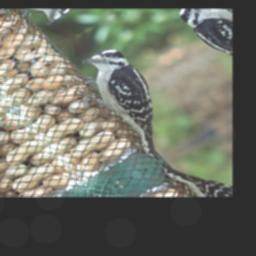Woodpecker: (54, 37, 208, 168)
